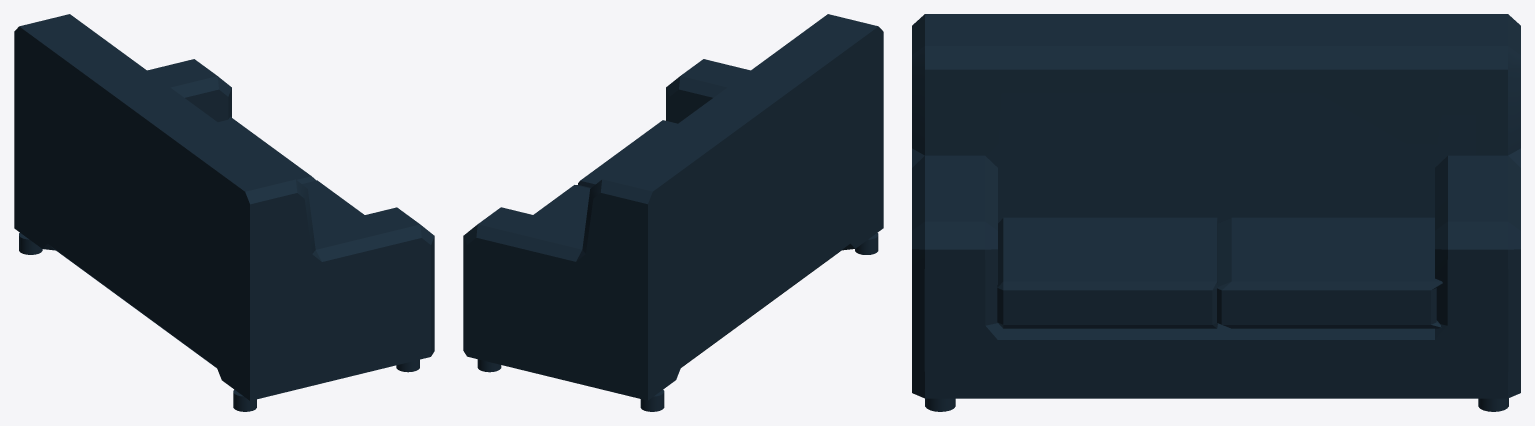
Rendered from Couch_2.FBX.
The picture shows the model from 3 angles, left to right: view 1: azimuth 30°, elevation 25°; view 2: azimuth 150°, elevation 25°; view 3: azimuth 270°, elevation 25°; orthographic projection. The views are drawn at different scales.
Visible parts, largest first — view 1: Box006; view 2: Box006; view 3: Box006.
Part boxes in pixels (x1,y1,x2,y2): Box006: (14, 14, 434, 411); Box006: (463, 14, 883, 411); Box006: (912, 14, 1520, 411).
Size of the model in its own units: 32.54 by 35.44 by 68.59.
